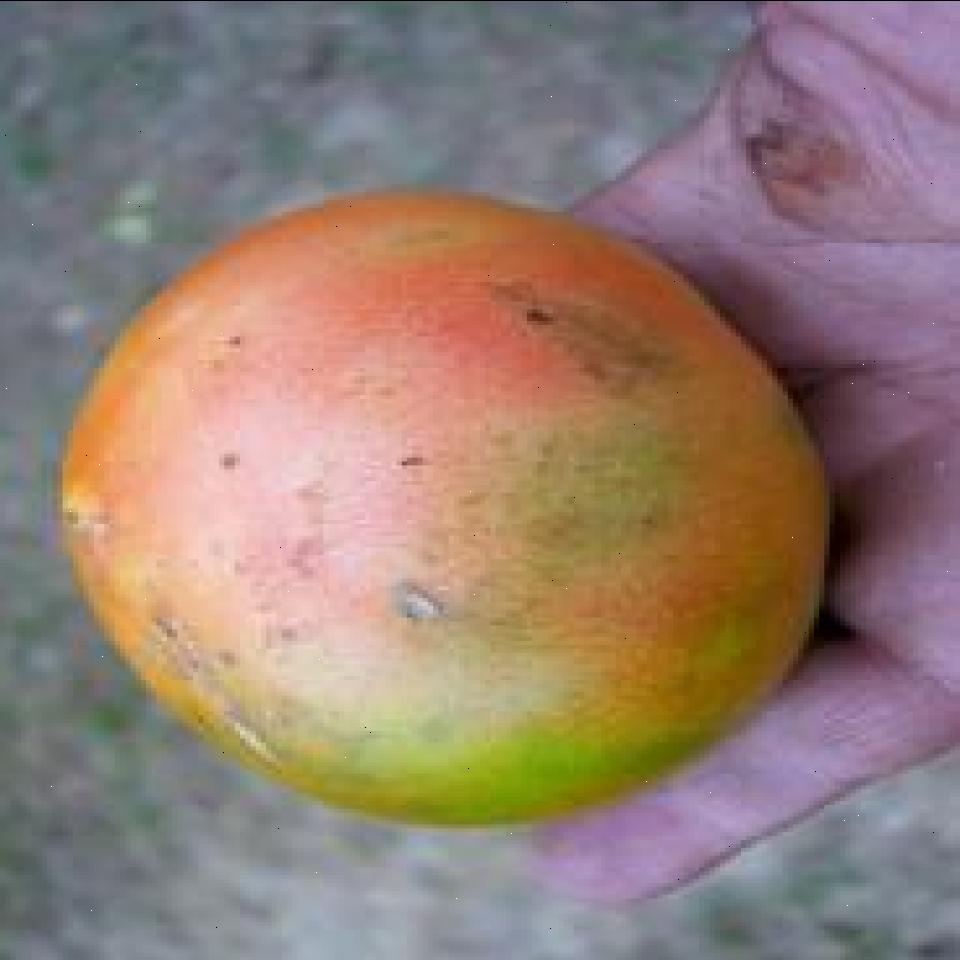Spotted wilt Virus: (52, 186, 836, 828)
